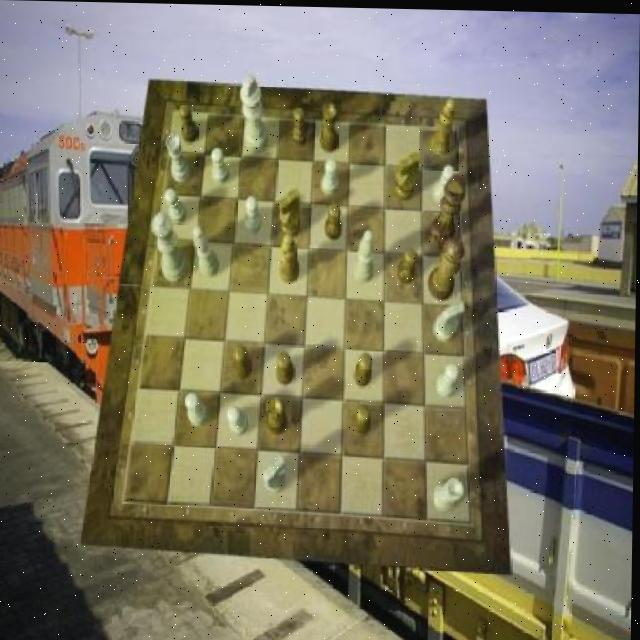bishop: (431, 95, 456, 153), (281, 231, 302, 282)
black-bishop: (430, 172, 468, 247)
black-king: (395, 150, 421, 199), (279, 188, 302, 236)
black-knight: (180, 103, 200, 144), (398, 247, 419, 283), (234, 343, 254, 378), (292, 105, 309, 145), (352, 403, 372, 436), (277, 349, 295, 384), (354, 351, 372, 386), (325, 201, 342, 238)
black-pawn: (429, 234, 467, 300)
black-queen: (320, 101, 338, 150), (267, 396, 290, 433)
black-rook: (192, 225, 220, 278), (355, 228, 376, 282)
white-bishop: (240, 73, 270, 152)
white-king: (435, 300, 466, 341), (265, 452, 289, 491)
white-knight: (433, 163, 456, 201), (165, 187, 188, 224), (438, 360, 462, 395), (186, 391, 209, 426), (210, 145, 230, 183), (228, 404, 250, 435), (245, 195, 262, 234), (322, 158, 340, 194)
white-pawn: (152, 212, 190, 282)
white-queen: (167, 132, 192, 182), (434, 475, 466, 510)
